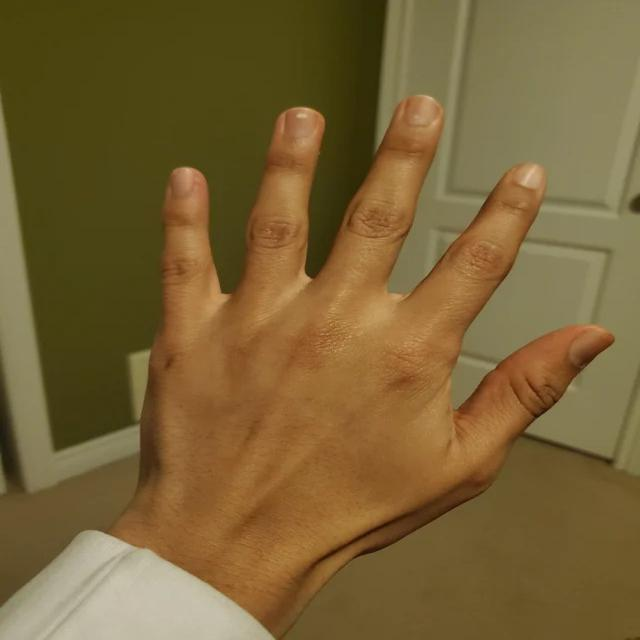no-gloves: (137, 93, 616, 534)
